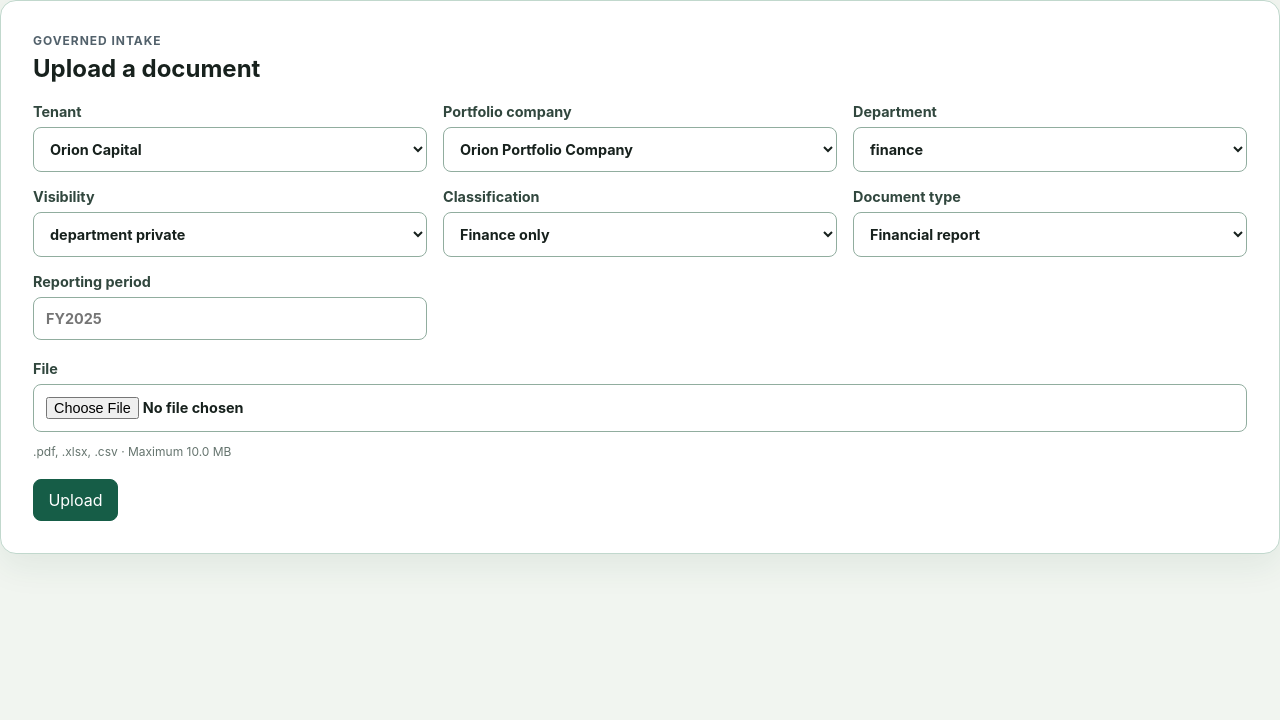
Test case: DocumentUploadForm › uses only backend-provided classification pairs
Expected: the dropdown labelled "Visibility" shows "department private", [33, 212, 427, 257]
Expected: the dropdown labelled "Classification" shows "Finance only", [443, 212, 837, 257]
Select "shared" in the dropdown labelled "Department" at (1050, 149), box [853, 127, 1247, 172]
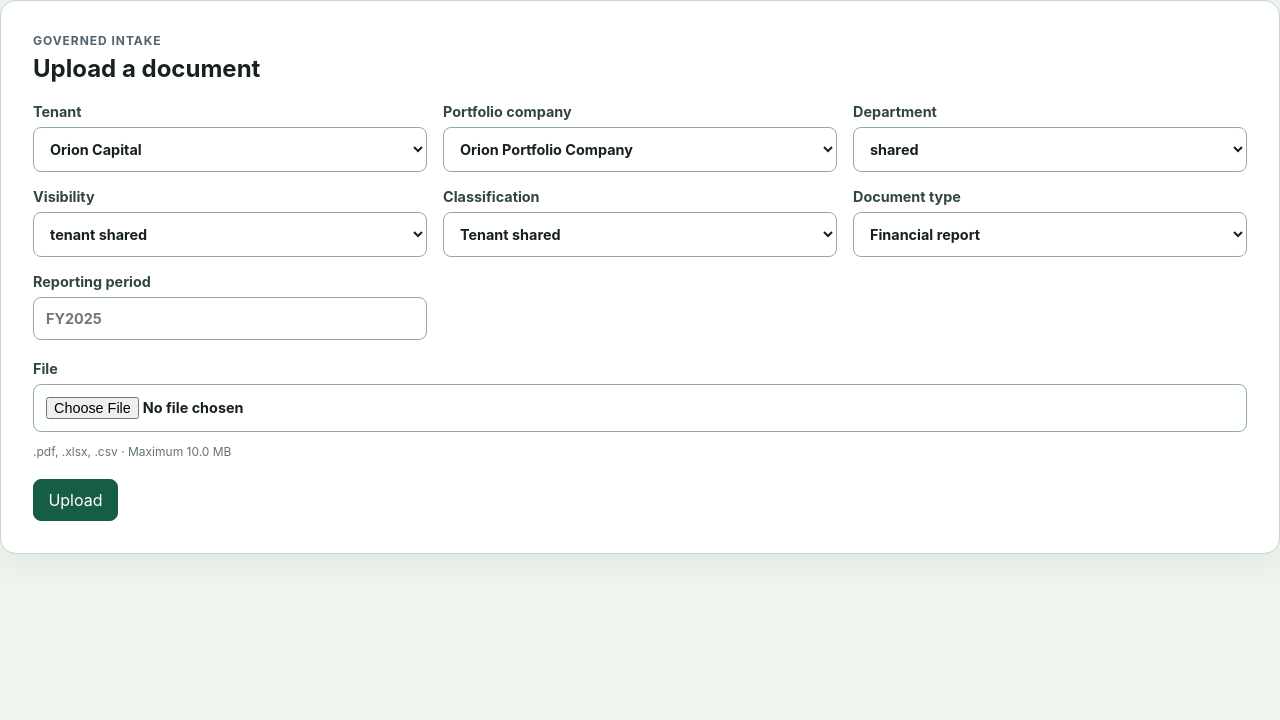
Expected: the option "Finance only" is not shown
Expected: the dropdown labelled "Visibility" shows "tenant shared", [33, 212, 427, 257]
Expected: the dropdown labelled "Classification" shows "Tenant shared", [443, 212, 837, 257]
